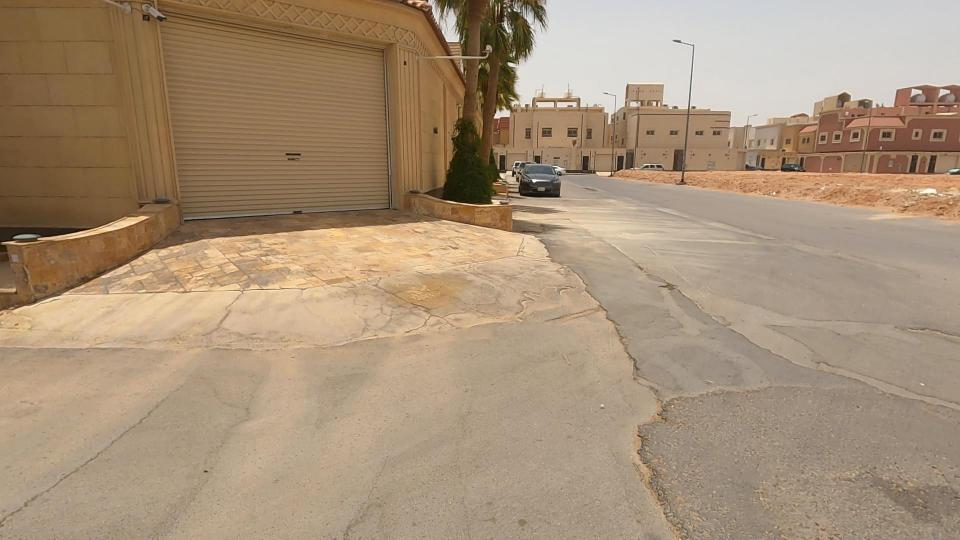POTHOLES: (555, 294, 771, 540), (544, 240, 691, 408)
